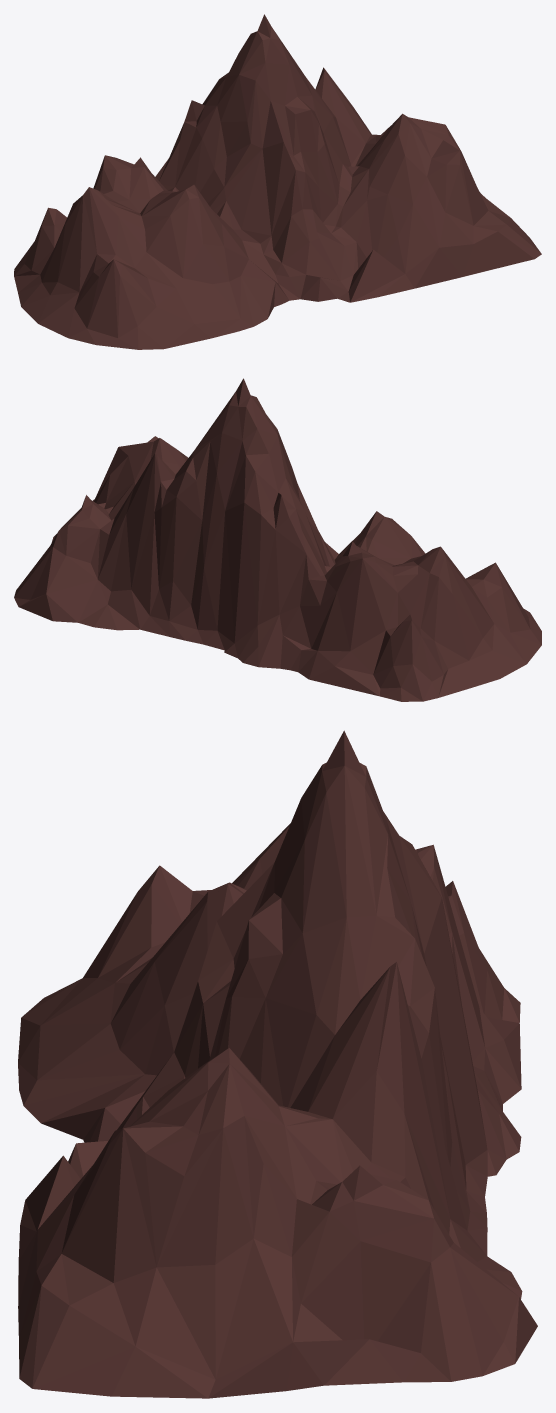
File: Mountain lowpoly fade.fbx
3 renders of one model, top to bottom at view 1: azimuth 30°, elevation 25°; view 2: azimuth 150°, elevation 25°; view 3: azimuth 270°, elevation 25°, orthographic. The views are drawn at different scales.
Parts seen in each view (by area): view 1: Mountain Lowpoly Fade; view 2: Mountain Lowpoly Fade; view 3: Mountain Lowpoly Fade.
Part boxes in pixels (left/top/right/bottom): Mountain Lowpoly Fade: left=14, top=14, right=541, bottom=349; Mountain Lowpoly Fade: left=14, top=378, right=541, bottom=701; Mountain Lowpoly Fade: left=18, top=730, right=537, bottom=1398.
Size of the model in its own units: 5345 by 2579 by 2622.
